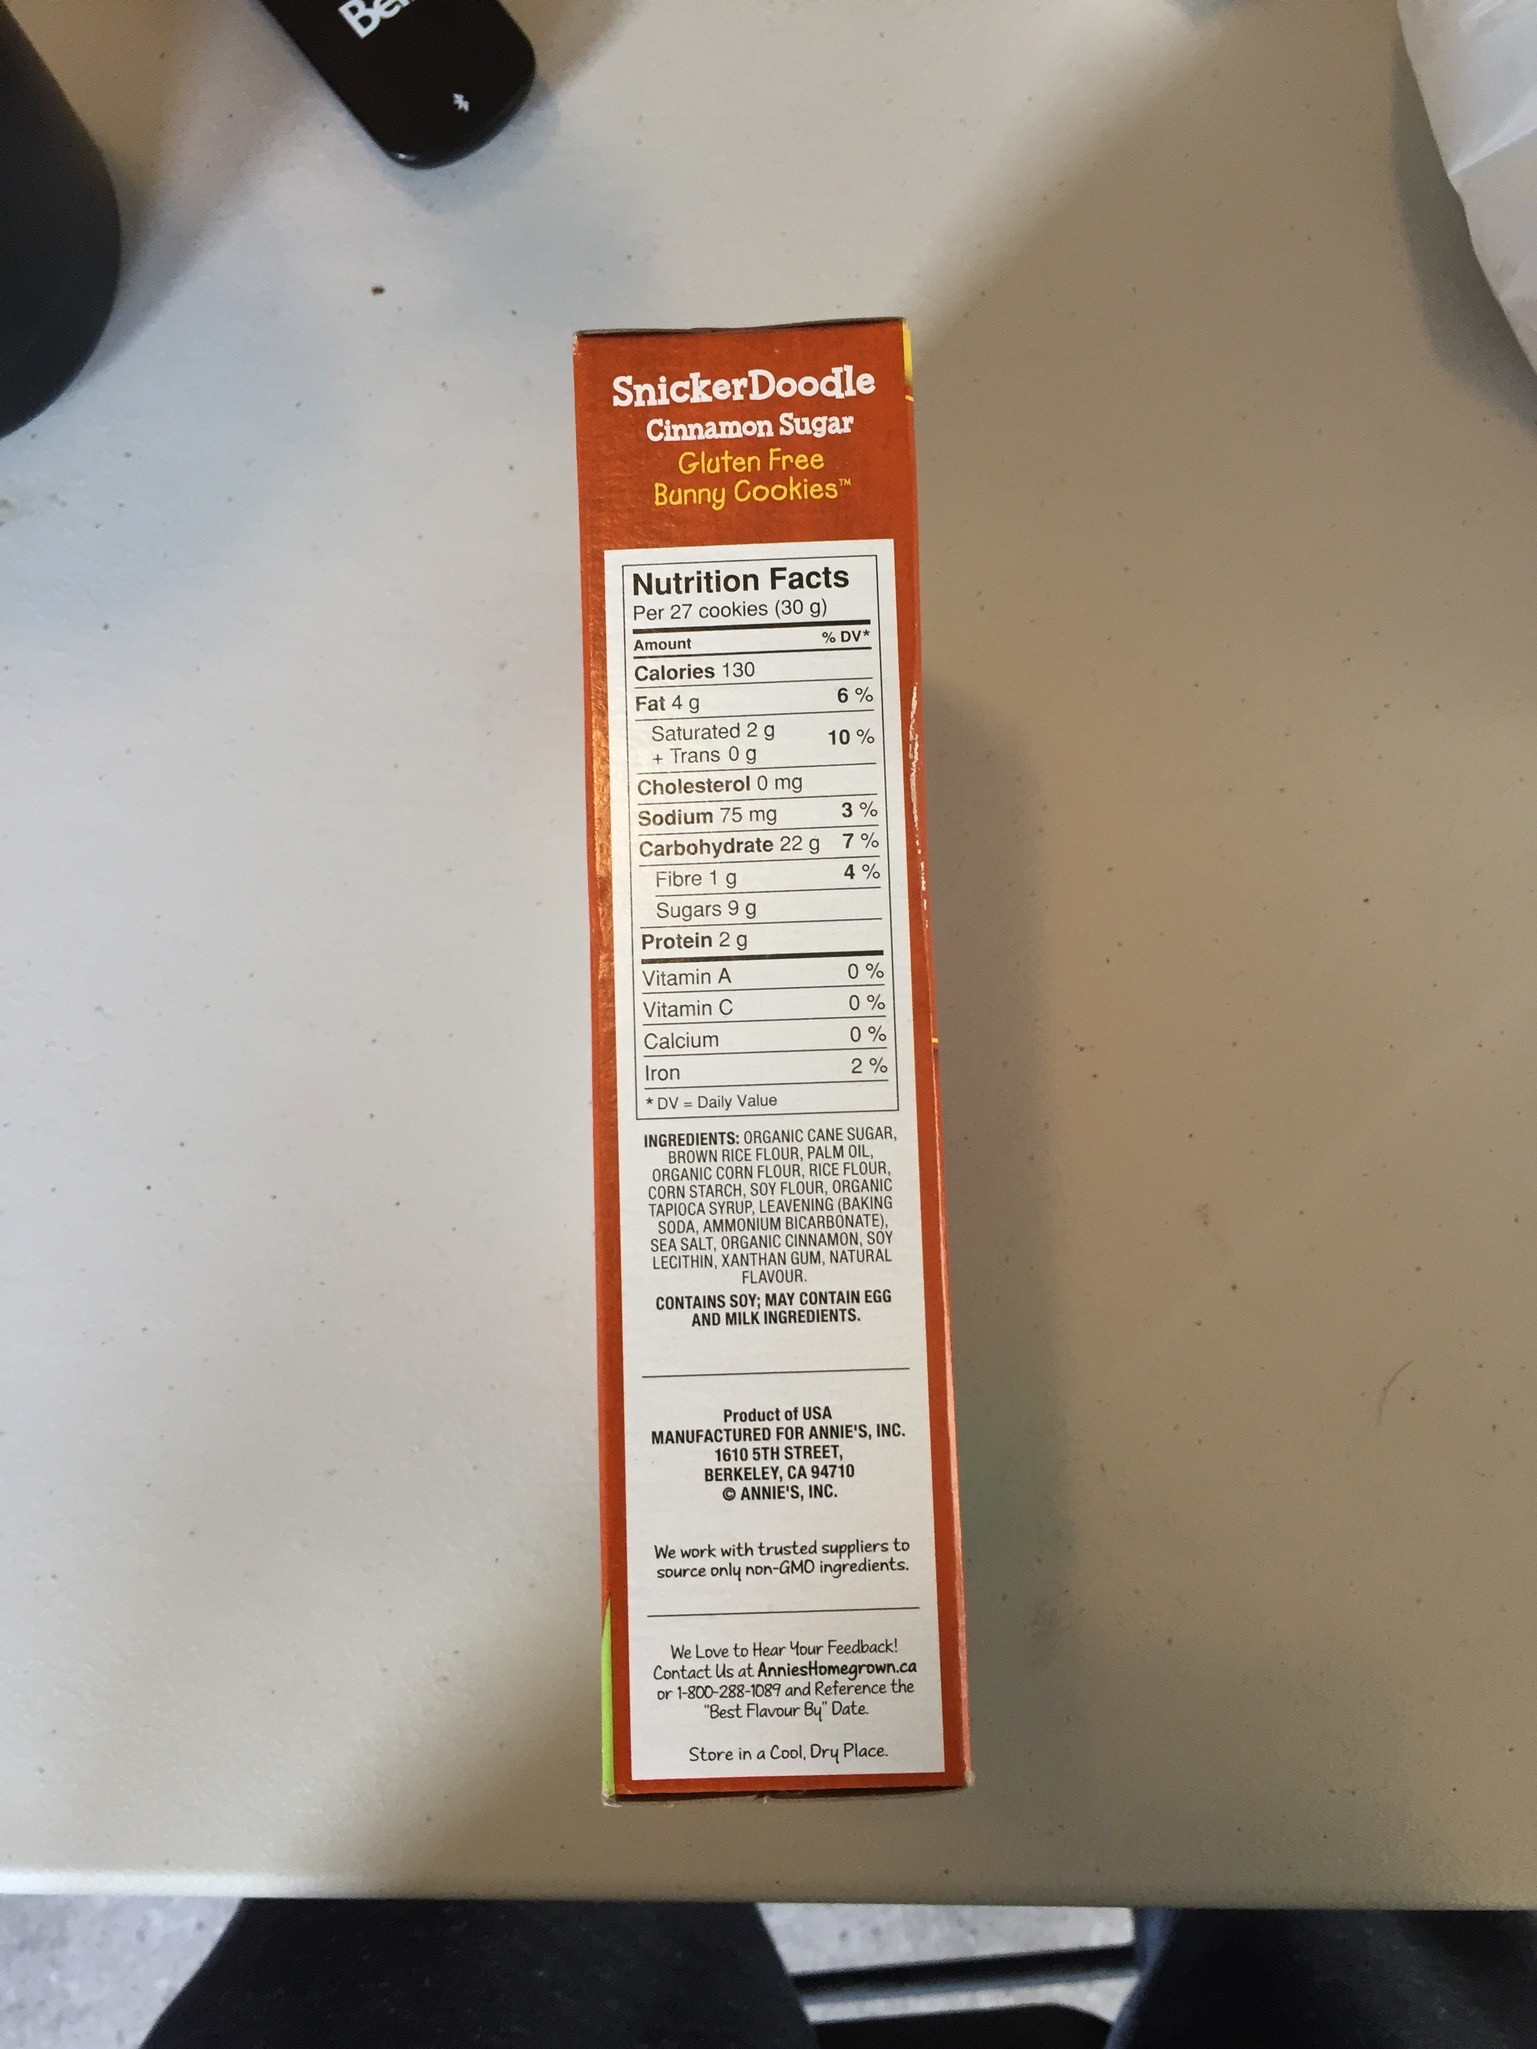annies_snickerdoodles_cinnamon_sugar: (588, 342, 954, 1766)
